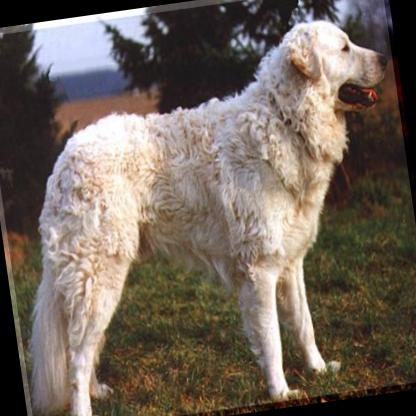kuvasz: (0, 8, 416, 416)
